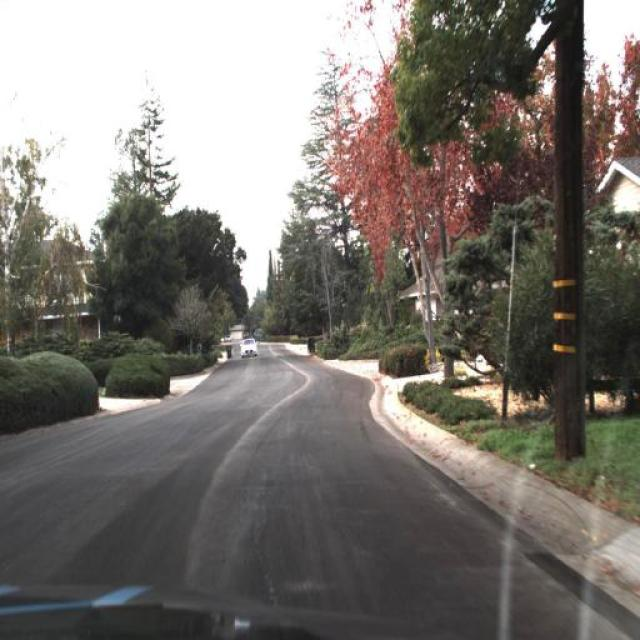car: (239, 336, 259, 364)
